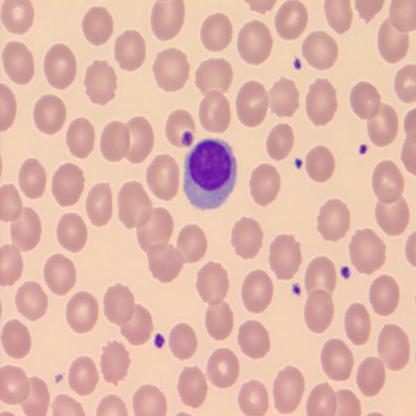Lymphocyte: (183, 138, 238, 210)
